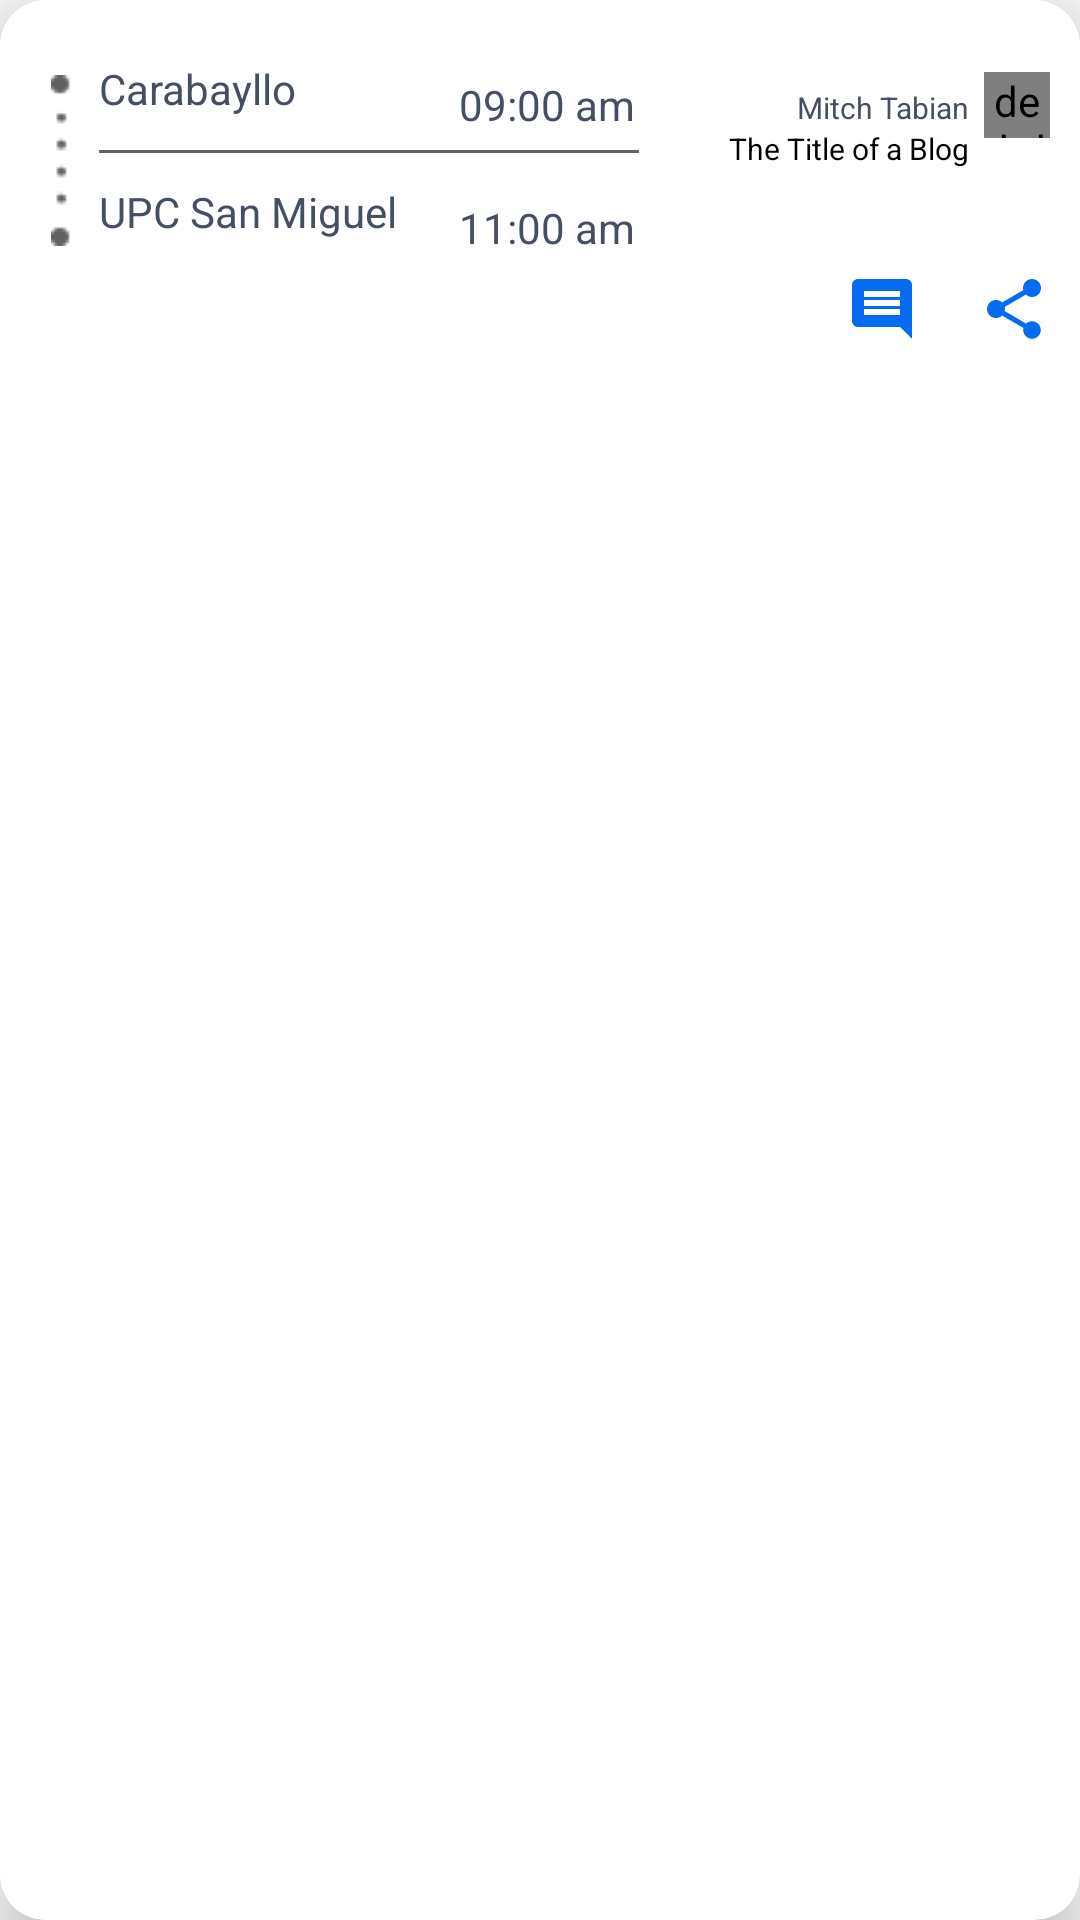

Icons on this 1080*1920 Android screen, each with the point to tap as (x=x, y=y):
comment: (x=882, y=309)
share: (x=1014, y=309)
